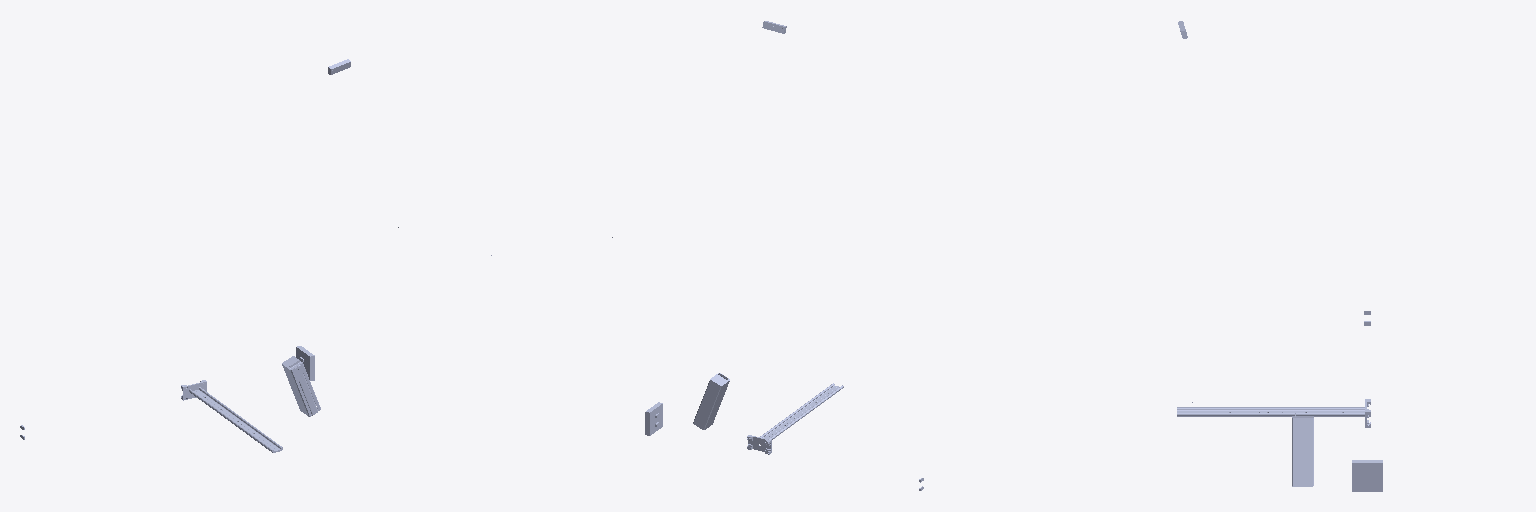
--- What the picture shows (computed from the rendered views, not written in the file) ---
The picture shows the robot from 3 angles, left to right: view 1: azimuth 30°, elevation 25°; view 2: azimuth 150°, elevation 25°; view 3: azimuth 270°, elevation 25°; orthographic projection.
Model robo_description with 21 links and 20 joints (2 revolute, 2 prismatic, 16 fixed), rooted at base_link, posed all joints at 0 but 1 set to mid-range because 0 is outside their limits (joint5 = 0.4665).
Links seen in each view (by area): view 1: link2, link5; view 2: link2, link5; view 3: link2, link5, base_link.
Link boxes in pixels (<box>): link2: <box>181,380,282,452</box>; link5: <box>282,356,320,416</box>; link2: <box>747,383,843,454</box>; link5: <box>693,373,729,429</box>; link2: <box>1177,399,1370,427</box>; link5: <box>1292,413,1313,486</box>; base_link: <box>1352,311,1382,491</box>.
Size in the robot's own frame: 1.65 by 0.657 by 1.58 metres.
4 mesh visuals loaded from 6 distinct referenced files (4 binary STL); not drawn: 2 (reference not matched to a file when rendering).

robot.urdf — robo_description:
<?xml version="1.0" encoding="utf-8"?>
<!-- 25AUG2023 Changed the minimum limit of lJoint5 to 0.247 and max to 0.686 -->
<!-- This URDF was automatically created by SolidWorks to URDF Exporter! Originally created by Stephen Brawner ([email redacted]) 
     Commit Version: 1.6.0-4-g7f85cfe  Build Version: 1.6.7995.38578
     For more information, please see http://wiki.ros.org/sw_urdf_exporter -->
<robot
  name="robo_description">
  <link
    name="base_link">
    <inertial>
      <origin
        xyz="-5.13826234849775E-17 -1.63904738952765E-17 0.339473684210526"
        rpy="0 0 0" />
      <mass
        value="19" />
      <inertia
        ixx="2.34956140350877"
        ixy="1.11311423041845E-17"
        ixz="3.69215798456927E-16"
        iyy="2.34956140350877"
        iyz="-7.44985984223617E-17"
        izz="0.151666666666667" />
    </inertial>
    <visual>
      <origin
        xyz="0 0 0"
        rpy="0 0 0" />
      <geometry>
        <mesh
          filename="package://robo_description/meshes/base_link.STL" />
      </geometry>
      <material
        name="">
        <color
          rgba="0.792156862745098 0.819607843137255 0.933333333333333 1" />
      </material>
    </visual>
    <collision>
      <origin
        xyz="0 0 0"
        rpy="0 0 0" />
      <geometry>
        <mesh
          filename="package://robo_description/meshes/base_link.STL" />
      </geometry>
    </collision>
  </link>
  <link
    name="link2">
    <inertial>
      <origin
        xyz="-0.001261 -0.2858 0.14572"
        rpy="0 0 0" />
      <mass
        value="3.13280329013611" />
      <inertia
        ixx="0.0169430024052603"
        ixy="-0.00280446630124331"
        ixz="0.0223183329111622"
        iyy="0.162057682822749"
        iyz="0.000505061238040558"
        izz="0.161640952999751" />
    </inertial>
    <visual>
      <origin
        xyz="0 0 -1"
        rpy="0 0 0" />
      <geometry>
        <mesh
          filename="package://robo_description/meshes/link2.STL" />
      </geometry>
      <material
        name="">
        <color
          rgba="0.792156862745098 0.819607843137255 0.933333333333333 1" />
      </material>
    </visual>
    <collision>
      <origin
        xyz="0 0 0"
        rpy="0 0 0" />
      <geometry>
        <mesh
          filename="package://robo_description/meshes/link2.STL" />
      </geometry>
    </collision>
  </link>
  <joint
    name="joint2"
    type="prismatic">
    <origin
      xyz="0.0 0 1"
      rpy="0 0 0" />
    <parent
      link="base_link" />
    <child
      link="link2" />
    <axis
      xyz="0 0 1" />
    <limit
      lower="0"
      upper="1"
      effort="0"
      velocity="0" />
  </joint>
  <link
    name="link4">
    <inertial>
      <origin
        xyz="-0.000438554587764983 0.0620490502692163 -0.172885898172371"
        rpy="0 0 0" />
      <mass
        value="0.162146723185788" />
      <inertia
        ixx="0.00336616371871891"
        ixy="1.46811284877534E-06"
        ixz="-3.57096843523024E-06"
        iyy="0.00312866852492012"
        iyz="0.00048231220150353"
        izz="0.000338308018448651" />
    </inertial>
    <visual>
      <origin
        xyz="-0.4665 0 -0.790"
        rpy="0 0 0" />
      <geometry>
        <mesh
          filename="package://robo_description/meshes/link4.STL" />
      </geometry>
      <material
        name="">
        <color
          rgba="0.792156862745098 0.819607843137255 0.933333333333333 1" />
      </material>
    </visual>
    <collision>
      <origin
        xyz="0 0 0"
        rpy="0 0 0" />
      <geometry>
        <mesh
          filename="package://robo_description/meshes/link4.STL" />
      </geometry>
    </collision>
  </link>
  <joint
    name="joint4"
    type="revolute">
    <origin
      xyz="0.46904 0 -0.21"
      rpy="0 0 0" />
    <parent
      link="link2" />
    <child
      link="link4" />
    <axis
      xyz="0 0 1" />
    <limit
      lower="-2.9671"
      upper="2.9671"
      effort="0"
      velocity="0" />
  </joint>
  <link
    name="link3">
    <inertial>
      <origin
        xyz="-0.0832189655707039 -0.0894795892974461 -0.00179630042130147"
        rpy="0 0 0" />
      <mass
        value="1.71811977068641" />
      <inertia
        ixx="0.00948440583507882"
        ixy="-0.00159429497921182"
        ixz="0.00308193362516688"
        iyy="0.035537875179704"
        iyz="0.000648421421055908"
        izz="0.0305779645247813" />
    </inertial>
    <visual>
      <origin
        xyz="-0.468545 -0.078 -0.43528"
        rpy="0 0 0" />
      <geometry>
        <mesh
          filename="package://robo_description/meshes/link3.STL" />
      </geometry>
      <material
        name="">
        <color
          rgba="0.792156862745098 0.819607843137255 0.933333333333333 1" />
      </material>
    </visual>
    <collision>
      <origin
        xyz="0 0 0"
        rpy="0 0 0" />
      <geometry>
        <mesh
          filename="package://robo_description/meshes/link3.STL" />
      </geometry>
    </collision>
  </link>
  <joint
    name="joint3"
    type="revolute">
    <origin
      xyz="0.0 0.077824 -0.35472"
      rpy="0 0 0" />
    <parent
      link="link4" />
    <child
      link="link3" />
    <axis
      xyz="0 1 0" />
    <limit
      lower="-1.5708"
      upper="1.5708"
      effort="0"
      velocity="0" />
  </joint>
  <link
    name="yanthra_link">
    <inertial>
      <origin
        xyz="-0.0832189655707036 -0.0114795892974462 -0.00179630042130124"
        rpy="0 0 0" />
      <mass
        value="1.71811977068641" />
      <inertia
        ixx="0.00948440583507882"
        ixy="-0.00159429497921182"
        ixz="0.0030819336251669"
        iyy="0.035537875179704"
        iyz="0.000648421421055907"
        izz="0.0305779645247813" />
    </inertial>
    <visual>
      <origin
        xyz="0 0 0"
        rpy="0 0 0" />
      <geometry>
        <box size="0.001 0.001 0.001"/>
      </geometry>
      <material
        name="">
        <color
          rgba="0.792156862745098 0.819607843137255 0.933333333333333 1" />
      </material>
    </visual>
    <collision>
      <origin
        xyz="0 0 0"
        rpy="0 0 0" />
      <geometry>
        <box size="0.001 0.001 0.001"/>
      </geometry>
    </collision>
  </link>
  <joint
    name="yanthra_joint"
    type="fixed">
    <origin
      xyz="0 -0.078 0"
      rpy="0 0 0" />
    <parent
      link="link3" />
    <child
      link="yanthra_link" />
    <axis
      xyz="0 0 0" />
  </joint>
  <link
    name="link5_origin">
    <inertial>
      <origin
        xyz="-0.00874999999999998 0.0375 -0.00507843424240889"
        rpy="0 0 0" />
      <mass
        value="0.0438088883035136" />
      <inertia
        ixx="3.24913884800222E-05"
        ixy="1.33063310958086E-21"
        ixz="-8.470329472543E-22"
        iyy="3.99574478810853E-06"
        iyz="-3.38875204913906E-21"
        izz="3.07317223657389E-05" />
    </inertial>
    <visual>
      <origin
        xyz="0 0 0"
        rpy="0 0 0" />
      <geometry>
        <box size="0.001 0.001 0.001"/>
      </geometry>
      <material
        name="">
        <color
          rgba="0.792156862745098 0.819607843137255 0.933333333333333 1" />
      </material>
    </visual>
    <collision>
      <origin
        xyz="0 0 0"
        rpy="0 0 0" />
      <geometry>
        <box size="0.001 0.001 0.001"/>
      </geometry>
    </collision>
  </link>
  <joint
    name="link5_origin_joint"
    type="fixed">
    <origin
      xyz="0 0 0.0"
      rpy="0 0 0" />
    <parent	
      link="yanthra_link" />
    <child
      link="link5_origin" />
    <axis
      xyz="0 0 0" />
  </joint>
  <link
    name="link5">
    <inertial>
      <origin
        xyz="0.108132413871145 2.08242781028485E-06 0.00569147154470495"
        rpy="0 0 0" />
      <mass
        value="0.277404400359573" />
      <inertia
        ixx="0.00021628976171093"
        ixy="1.27900715148446E-06"
        ixz="-0.000135093187106687"
        iyy="0.00359200319167061"
        iyz="-8.36237914028336E-08"
        izz="0.00358633509004247" />
    </inertial>
    <visual>
      <origin
        xyz="-0.715545 0 -0.43528"
        rpy="0 0 0" />
      <geometry>
        <mesh
          filename="package://robo_description/meshes/link5.STL" />
      </geometry>
      <material
        name="">
        <color
          rgba="0.792156862745098 0.819607843137255 0.933333333333333 1" />
      </material>
    </visual>
    <collision>
      <origin
        xyz="0 0 0"
        rpy="0 0 0" />
      <geometry>
        <mesh
          filename="package://robo_description/meshes/link5.STL" />
      </geometry>
    </collision>
  </link>
  <joint
    name="joint5"
    type="prismatic">
    <origin
      xyz="0.0 0 0"
      rpy="0 0 0" />
    <parent
      link="link5_origin" />
    <child
      link="link5" />
    <axis
      xyz="1 0 0" />
    <limit
      lower="0.247"
      upper="0.686"
      effort="0"
      velocity="0" />
  </joint>
  <link
    name="ee_link">
    <inertial>
      <origin
        xyz="-0.00874999999999998 0.0375 -0.00507843424240889"
        rpy="0 0 0" />
      <mass
        value="0.0438088883035136" />
      <inertia
        ixx="3.24913884800222E-05"
        ixy="1.33063310958086E-21"
        ixz="-8.470329472543E-22"
        iyy="3.99574478810853E-06"
        iyz="-3.38875204913906E-21"
        izz="3.07317223657389E-05" />
    </inertial>
    <visual>
      <origin
        xyz="0 0 0"
        rpy="0 0 0" />
      <geometry>
        <box size="0.001 0.001 0.001"/>
      </geometry>
      <material
        name="">
        <color
          rgba="0.792156862745098 0.819607843137255 0.933333333333333 1" />
      </material>
    </visual>
    <collision>
      <origin
        xyz="0 0 0"
        rpy="0 0 0" />
      <geometry>
        <box size="0.001 0.001 0.001"/>
      </geometry>
    </collision>
  </link>
  <joint
    name="ee_joint"
    type="fixed">
    <origin
      xyz="-0.085 0 0"
      rpy="0 0 0" />
    <parent	
      link="link5" />
    <child
      link="ee_link" />
    <axis
      xyz="0 0 0" />
  </joint>
  <link
    name="aruco_marker_link">
    <inertial>
      <origin
        xyz="-0.00874999999999998 0.0375 -0.00507843424240889"
        rpy="0 0 0" />
      <mass
        value="0.0438088883035136" />
      <inertia
        ixx="3.24913884800222E-05"
        ixy="1.33063310958086E-21"
        ixz="-8.470329472543E-22"
        iyy="3.99574478810853E-06"
        iyz="-3.38875204913906E-21"
        izz="3.07317223657389E-05" />
    </inertial>
    <visual>
      <origin
        xyz="0 0 0"
        rpy="0 0 0" />
      <geometry>
        <box size="0.001 0.001 0.001"/>
      </geometry>
      <material
        name="">
        <color
          rgba="0.792156862745098 0.819607843137255 0.933333333333333 1" />
      </material>
    </visual>
    <collision>
      <origin
        xyz="0 0 0"
        rpy="0 0 0" />
      <geometry>
        <box size="0.001 0.001 0.001"/>
      </geometry>
    </collision>
  </link>
  <joint
    name="aruco_joint"
    type="fixed">
    <origin
      xyz="0.0 0 0.08"
      rpy="0 0 0" />
    <parent	
      link="ee_link" />
    <child
      link="aruco_marker_link" />
    <axis
      xyz="0 0 0" />
  </joint>
  <link
    name="aruco_link_1">
    <inertial>
      <origin
        xyz="-0.00874999999999998 0.0375 -0.00507843424240889"
        rpy="0 0 0" />
      <mass
        value="0.0438088883035136" />
      <inertia
        ixx="3.24913884800222E-05"
        ixy="1.33063310958086E-21"
        ixz="-8.470329472543E-22"
        iyy="3.99574478810853E-06"
        iyz="-3.38875204913906E-21"
        izz="3.07317223657389E-05" />
    </inertial>
    <visual>
      <origin
        xyz="0 0 0"
        rpy="0 0 0" />
      <geometry>
        <box size="0.001 0.001 0.001"/>
      </geometry>
      <material
        name="">
        <color
          rgba="0.792156862745098 0.819607843137255 0.933333333333333 1" />
      </material>
    </visual>
    <collision>
      <origin
        xyz="0 0 0"
        rpy="0 0 0" />
      <geometry>
        <box size="0.001 0.001 0.001"/>
      </geometry>
    </collision>
  </link>
  <joint
    name="aruco_joint_1"
    type="fixed">
    <origin
      xyz="0.0 0.04 0.04"
      rpy="0 0 0" />
    <parent	
      link="aruco_marker_link" />
    <child
      link="aruco_link_1" />
    <axis
      xyz="0 0 0" />
  </joint>
  <link
    name="aruco_link_2">
    <inertial>
      <origin
        xyz="-0.00874999999999998 0.0375 -0.00507843424240889"
        rpy="0 0 0" />
      <mass
        value="0.0438088883035136" />
      <inertia
        ixx="3.24913884800222E-05"
        ixy="1.33063310958086E-21"
        ixz="-8.470329472543E-22"
        iyy="3.99574478810853E-06"
        iyz="-3.38875204913906E-21"
        izz="3.07317223657389E-05" />
    </inertial>
    <visual>
      <origin
        xyz="0 0 0"
        rpy="0 0 0" />
      <geometry>
        <box size="0.001 0.001 0.001"/>
      </geometry>
      <material
        name="">
        <color
          rgba="0.792156862745098 0.819607843137255 0.933333333333333 1" />
      </material>
    </visual>
    <collision>
      <origin
        xyz="0 0 0"
        rpy="0 0 0" />
      <geometry>
        <box size="0.001 0.001 0.001"/>
      </geometry>
    </collision>
  </link>
  <joint
    name="aruco_joint_2"
    type="fixed">
    <origin
      xyz="0.0 -0.04 0.04"
      rpy="0 0 0" />
    <parent	
      link="aruco_marker_link" />
    <child
      link="aruco_link_2" />
    <axis
      xyz="0 0 0" />
  </joint>
  <link
    name="aruco_link_3">
    <inertial>
      <origin
        xyz="-0.00874999999999998 0.0375 -0.00507843424240889"
        rpy="0 0 0" />
      <mass
        value="0.0438088883035136" />
      <inertia
        ixx="3.24913884800222E-05"
        ixy="1.33063310958086E-21"
        ixz="-8.470329472543E-22"
        iyy="3.99574478810853E-06"
        iyz="-3.38875204913906E-21"
        izz="3.07317223657389E-05" />
    </inertial>
    <visual>
      <origin
        xyz="0 0 0"
        rpy="0 0 0" />
      <geometry>
        <box size="0.001 0.001 0.001"/>
      </geometry>
      <material
        name="">
        <color
          rgba="0.792156862745098 0.819607843137255 0.933333333333333 1" />
      </material>
    </visual>
    <collision>
      <origin
        xyz="0 0 0"
        rpy="0 0 0" />
      <geometry>
        <box size="0.001 0.001 0.001"/>
      </geometry>
    </collision>
  </link>
  <joint
    name="aruco_joint_3"
    type="fixed">
    <origin
      xyz="0.0 0.04 -0.04"
      rpy="0 0 0" />
    <parent	
      link="aruco_marker_link" />
    <child
      link="aruco_link_3" />
    <axis
      xyz="0 0 0" />
  </joint>
  <link
    name="aruco_link_4">
    <inertial>
      <origin
        xyz="-0.00874999999999998 0.0375 -0.00507843424240889"
        rpy="0 0 0" />
      <mass
        value="0.0438088883035136" />
      <inertia
        ixx="3.24913884800222E-05"
        ixy="1.33063310958086E-21"
        ixz="-8.470329472543E-22"
        iyy="3.99574478810853E-06"
        iyz="-3.38875204913906E-21"
        izz="3.07317223657389E-05" />
    </inertial>
    <visual>
      <origin
        xyz="0 0 0"
        rpy="0 0 0" />
      <geometry>
        <box size="0.001 0.001 0.001"/>
      </geometry>
      <material
        name="">
        <color
          rgba="0.792156862745098 0.819607843137255 0.933333333333333 1" />
      </material>
    </visual>
    <collision>
      <origin
        xyz="0 0 0"
        rpy="0 0 0" />
      <geometry>
        <box size="0.001 0.001 0.001"/>
      </geometry>
    </collision>
  </link>
  <joint
    name="aruco_joint_4"
    type="fixed">
    <origin
      xyz="0.0 -0.04 -0.04"
      rpy="0 0 0" />
    <parent	
      link="aruco_marker_link" />
    <child
      link="aruco_link_4" />
    <axis
      xyz="0 0 0" />
  </joint>
  <link
    name="link7">
    <inertial>
      <origin
        xyz="-0.00129487747822488 -0.0114795892973884 0.11996423535158"
        rpy="0 0 0" />
      <mass
        value="1.71811977068641" />
      <inertia
        ixx="0.0113386071435481"
        ixy="-0.00171490439294498"
        ixz="-0.00672100859249017"
        iyy="0.0355378751797041"
        iyz="-0.0001460470577602"
        izz="0.0287237632163119" />
    </inertial>
    <visual>
      <origin
        xyz="0 0 0"
        rpy="0 0 0" />
      <geometry>
        <box size="0.001 0.001 0.001"/>
      </geometry>
      <material
        name="">
        <color
          rgba="0.792156862745098 0.819607843137255 0.933333333333333 1" />
      </material>
    </visual>
    <collision>
      <origin
        xyz="0 0 0"
        rpy="0 0 0" />
      <geometry>
        <box size="0.001 0.001 0.001"/>
      </geometry>
    </collision>
  </link>
  <joint
    name="joint7"
    type="fixed">
    <origin
      xyz="0.47229 -0.069971 0.79711"
      rpy="0 0.785398 -1.5708" />
    <parent
      link="base_link"/>
    <child
      link="link7"/>
    <axis
      xyz="0 0 0" />
  </joint>
  <link
    name="camera_mount_link">
    <inertial>
      <origin
        xyz="-0.00129487747822488 -0.0114795892973883 0.11996423535158"
        rpy="0 0 0" />
      <mass
        value="1.71811977068641" />
      <inertia
        ixx="0.0113386071435481"
        ixy="-0.00171490439294498"
        ixz="-0.00672100859249018"
        iyy="0.0355378751797041"
        iyz="-0.000146047057760202"
        izz="0.0287237632163119" />
    </inertial>
    <visual>
      <origin
        xyz="0 0 0"
        rpy="0 0 0" />
      <geometry>
        <box size="0.001 0.001 0.001"/>
      </geometry>
      <material
        name="">
        <color
          rgba="0.792156862745098 0.819607843137255 0.933333333333333 1" />
      </material>
    </visual>
    <collision>
      <origin
        xyz="0 0 0"
        rpy="0 0 0" />
      <geometry>
        <box size="0.001 0.001 0.001"/>
      </geometry>
    </collision>
  </link>
     <!--Realsense Camera depth is 20 mm from back to glass, But the depth start point(GROUND ZERO REFERENCE i.e depth is Zero) is 1.1 mm behind glass-->
     <!--Camera thickness-Zero Ref +Plate thick=20-1.1+2 = 20.09 mm -->
     <!-- xyz="0.0209 -0.0375 0"-->
  <joint
    name="camera_mount_joint"
    type="fixed">
    <origin
      xyz="0.02090 -0.0375 0"
      rpy="-1.5708 0 -1.5708" />
    <parent
      link="link7" />
    <child
      link="camera_mount_link" />
    <axis
      xyz="0 0 0" />
  </joint>
  <link
    name="virtual_cam_link">
    <inertial>
      <origin
        xyz="-0.00874999999999998 0.0375 -0.00507843424240889"
        rpy="0 0 0" />
      <mass
        value="0.0438088883035136" />
      <inertia
        ixx="3.24913884800222E-05"
        ixy="1.33063310958086E-21"
        ixz="-8.470329472543E-22"
        iyy="3.99574478810853E-06"
        iyz="-3.38875204913906E-21"
        izz="3.07317223657389E-05" />
    </inertial>
    <visual>
      <origin
        xyz="0 0 0"
        rpy="0 0 0" />
      <geometry>
        <box size="0.001 0.001 0.001"/>
      </geometry>
      <material
        name="">
        <color
          rgba="0.792156862745098 0.819607843137255 0.933333333333333 1" />
      </material>
    </visual>
    <collision>
      <origin
        xyz="0 0 0"
        rpy="0 0 0" />
      <geometry>
        <box size="0.001 0.001 0.001"/>
      </geometry>
    </collision>
  </link>
  <joint
    name="virtual_cam_link_joint"
    type="fixed">
    <origin
      xyz="0 0 0"
      rpy="0 0 0" />
    <parent	
      link="camera_mount_link" />
    <child
      link="virtual_cam_link" />
    <axis
      xyz="0 0 0" />
  </joint>

  <link
    name="camera_link">
    <inertial>
      <origin
        xyz="-0.00874999999999998 0.0375 -0.00507843424240889"
        rpy="0 0 0" />
      <mass
        value="0.0438088883035136" />
      <inertia
        ixx="3.24913884800222E-05"
        ixy="1.33063310958086E-21"
        ixz="-8.470329472543E-22"
        iyy="3.99574478810853E-06"
        iyz="-3.38875204913906E-21"
        izz="3.07317223657389E-05" />
    </inertial>
    <visual>
      <origin
        xyz="-0.03768 -0.425 -0.175"
        rpy="0 -2.04 -1.5708" />
      <geometry>
        <mesh
          filename="package://robo_description/meshes/camera_link.STL" />
      </geometry>
      <material
        name="">
        <color
          rgba="0.792156862745098 0.819607843137255 0.933333333333333 1" />
      </material>
    </visual>
    <collision>
      <origin
        xyz="0 0 0"
        rpy="0 0 0" />
      <geometry>
        <mesh
          filename="package://robo_description/meshes/camera_link.STL" />
      </geometry>
    </collision>
  </link>
  <joint
    name="camera_link_joint"
    type="fixed">
    <origin
      xyz="-0.00627026 -0.0581101 -0.120466"
      rpy="0.211858 -0.136139 -0.0133248" />
    <parent
      link="virtual_cam_link" />
    <child
      link="camera_link" />
    <axis
      xyz="0 0 0" />
  </joint>

  <link name="camera_depth_frame">

    <visual>

    <origin xyz="0 0 0" rpy="0 0 0" />

      <geometry>

        <box size="0.001 0.001 0.001"/>

      </geometry>

    </visual>

  </link>

  <joint name="camera_depth_frame_joint" type="fixed">

    <origin rpy="0 0 0" xyz="0 0 0"/>

    <parent link="camera_link"/>

    <child link="camera_depth_frame"/>

  </joint>

  <link name="camera_depth_optical_frame">

    <visual>

    <origin xyz="0 0 0" rpy="0 0 0" />

      <geometry>

        <box size="0.001 0.001 0.001"/>

      </geometry>

    </visual>

  </link>

  <joint name="camera_depth_optical_frame_joint" type="fixed">

   <origin rpy="0 0 0" xyz="0 0 0"/>

   <parent link="camera_depth_frame"/>

   <child link="camera_depth_optical_frame"/>

  </joint>

  <link name="camera_color_frame">

    <visual>

    <origin xyz="0 0 0" rpy="0 0 0" />

      <geometry>

        <box size="0.001 0.001 0.001"/>

      </geometry>

    </visual>

  </link>

  <joint name="camera_color_frame_joint" type="fixed">

    <origin rpy="0 0 0" xyz="0 0 0"/>

    <parent link="camera_link"/>

    <child link="camera_color_frame"/>

  </joint>

  <link name="camera_color_optical_frame">

    <visual>

    <origin xyz="0 0 0" rpy="0 0 0" />

      <geometry>

        <box size="0.001 0.001 0.001"/>

      </geometry>

    </visual>

  </link>

  <joint name="camera_color_optical_frame_joint" type="fixed">

   <origin rpy="0 0 0" xyz="0 0 0"/>

   <parent link="camera_color_frame"/>

   <child link="camera_color_optical_frame"/>

  </joint>
  <gazebo reference="stand">

    <material>Gazebo/Grey</material>

  </gazebo>

  <gazebo reference="link3">

    <material>Gazebo/Green</material>

  </gazebo>

  <gazebo reference="link4">

    <material>Gazebo/Red</material>

  </gazebo>

  <gazebo reference="link5">

    <material>Gazebo/Green</material>

  </gazebo>

  <gazebo reference="link9">

    <material>Gazebo/Red</material>

  </gazebo>

  <gazebo reference="link6">

    <material>Gazebo/White</material>

  </gazebo>

  <transmission name="tran1">

    <type>transmission_interface/SimpleTransmission</type>

    <joint name="joint3">

      <hardwareInterface>hardware_interface/PositionJointInterface</hardwareInterface>

    </joint>

    <actuator name="motor1">

      <hardwareInterface>hardware_interface/PositionJointInterface</hardwareInterface>

      <mechanicalReduction>1</mechanicalReduction>

    </actuator>

  </transmission>

  <transmission name="tran1">

    <type>transmission_interface/SimpleTransmission</type>

    <joint name="joint4">

      <hardwareInterface>hardware_interface/PositionJointInterface</hardwareInterface>

    </joint>

    <actuator name="motor1">

      <hardwareInterface>hardware_interface/PositionJointInterface</hardwareInterface>

      <mechanicalReduction>1</mechanicalReduction>

    </actuator>

  </transmission>

  <transmission name="tran1">

    <type>transmission_interface/SimpleTransmission</type>

    <joint name="joint5">

      <hardwareInterface>hardware_interface/PositionJointInterface</hardwareInterface>

    </joint>

    <actuator name="motor1">

      <hardwareInterface>hardware_interface/PositionJointInterface</hardwareInterface>

      <mechanicalReduction>1</mechanicalReduction>

    </actuator>

  </transmission>

  <gazebo>

    <plugin filename="libgazebo_ros_control.so" name="gazebo_ros_control">

      <robotNameSpace>/arm_controller</robotNameSpace>

    </plugin>

  </gazebo>

</robot>
